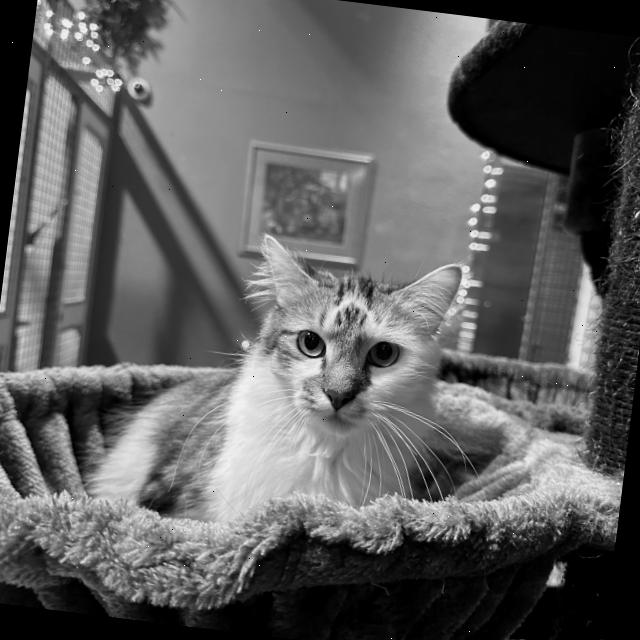maine_coon_cat: (219, 218, 476, 488)
